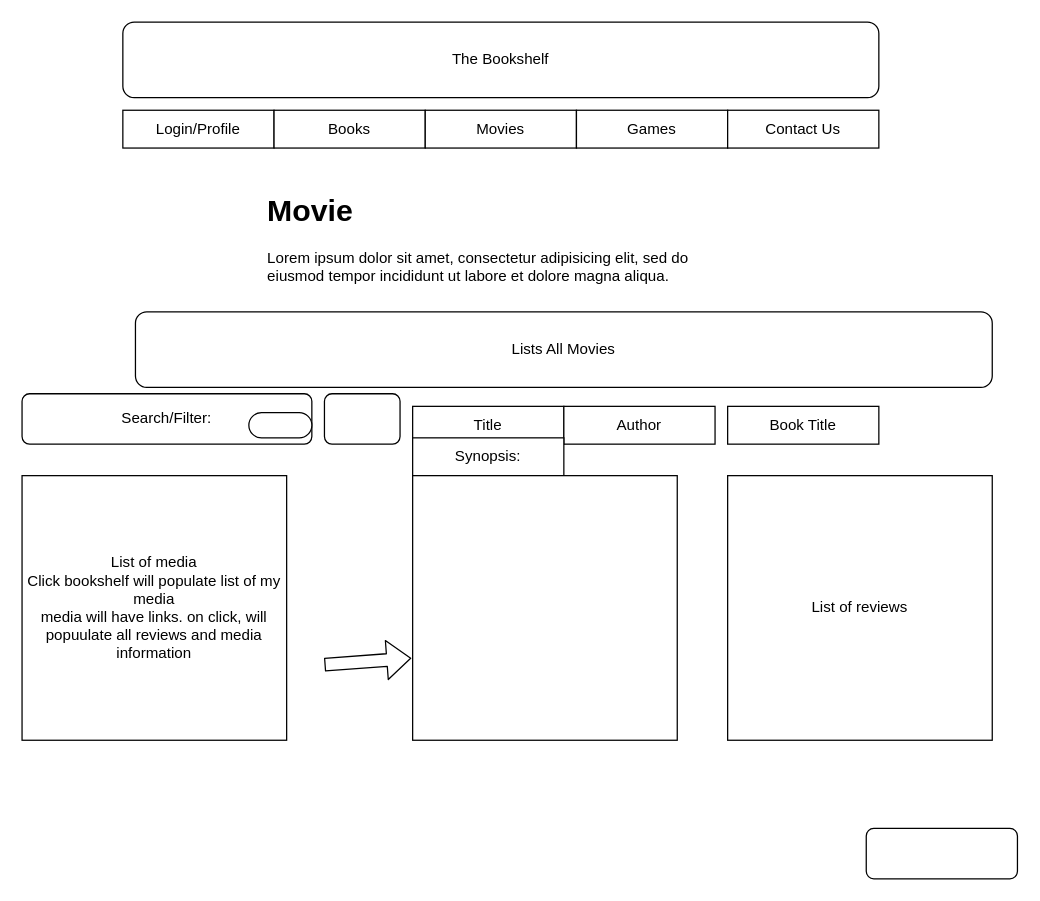
Image size: 1040x901. Some labels were removed from this diagram. The shapes that lost their labels are listed below. From the top down, each one's centre as x and y in pixels, then its label:
pixel 280 424: Search
pixel 361 418: Add
pixel 544 607: Information for the media that was clicked on
pixel 941 853: Logout
